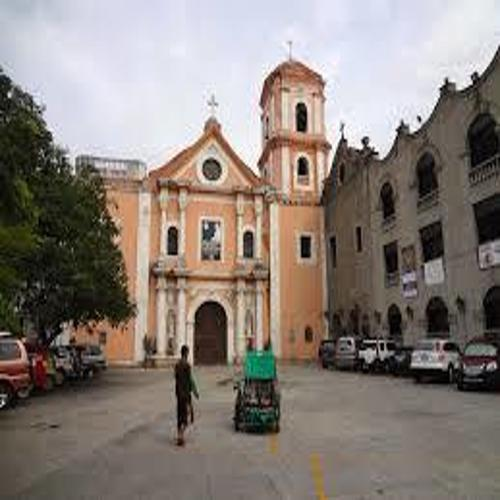San Agustin Church: (142, 28, 338, 371)
